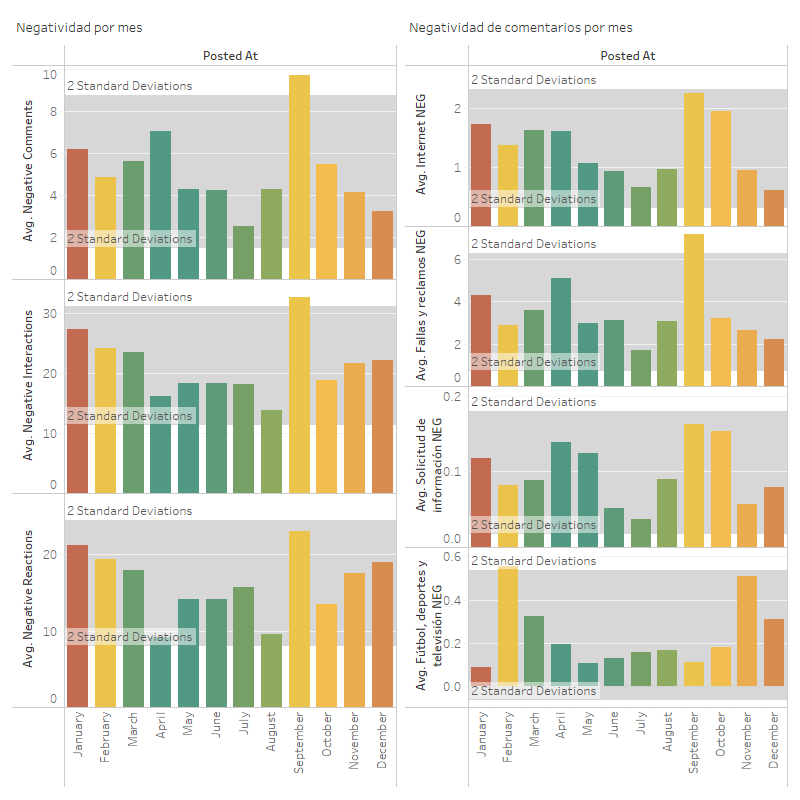

What the dashboard file says about the page in this screenshot:
{"tool":"tableau","page":{"name":"Negatividad por mes Dashboard","canvas":[800,800],"ordinal":3},"visuals":[{"type":"worksheet","title":"Negatividad por mes","mark":"Bar","rows":["Calculation_744219881119215621","Calculation_744219881121411079","Calculation_744219881111605249"],"cols":["Posted At"],"box":[8,8,392.8,784]},{"type":"worksheet","title":"Negatividad de comentarios por mes","mark":"Bar","rows":["Internet_NEG","Fallas y reclamos_NEG","Solicitud de información_NEG","Fútbol, deportes y televisión_NEG"],"cols":["Posted At"],"box":[400.8,8,391.2,784]}]}

Visuals, with their boxes in screenshot pixels (x1, y1, x2, y2), scaled from the page's 800x800 canvas onto the 800x800 screenshot:
"Negatividad por mes" worksheet (Bar marks): box(8, 8, 401, 792)
"Negatividad de comentarios por mes" worksheet (Bar marks): box(401, 8, 792, 792)
